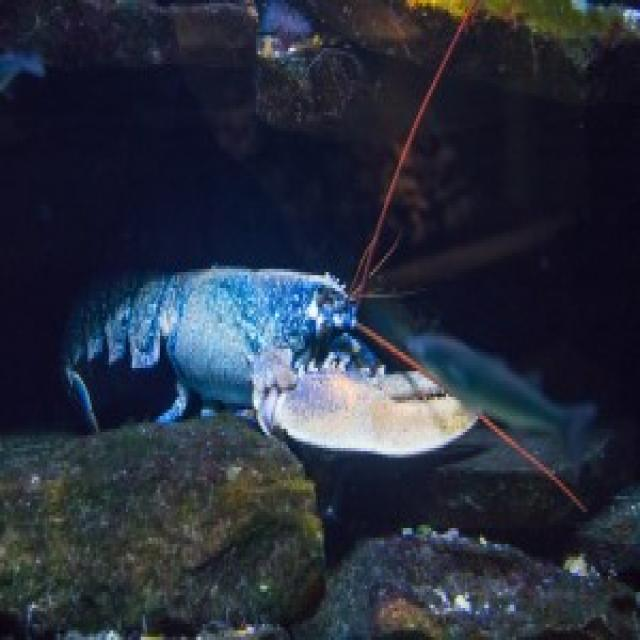lobsters: (52, 118, 584, 640)
